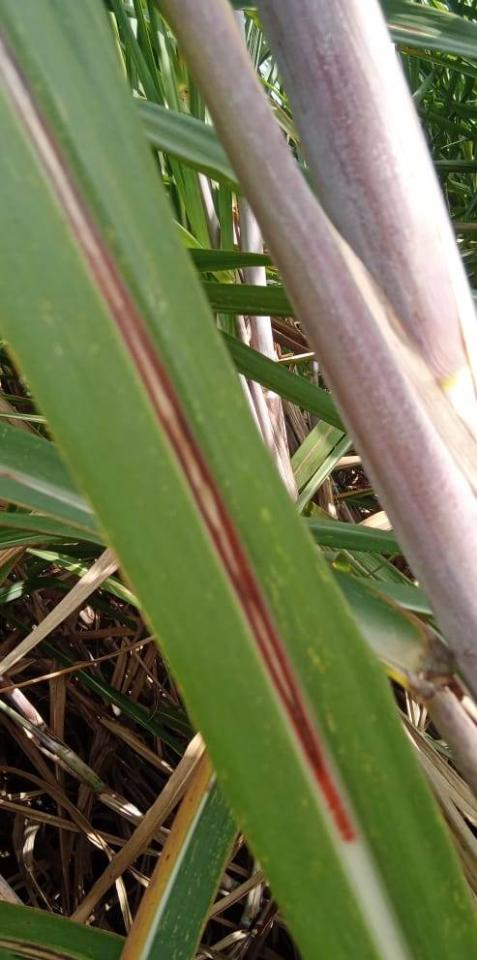RedRot: (0, 34, 360, 848)
